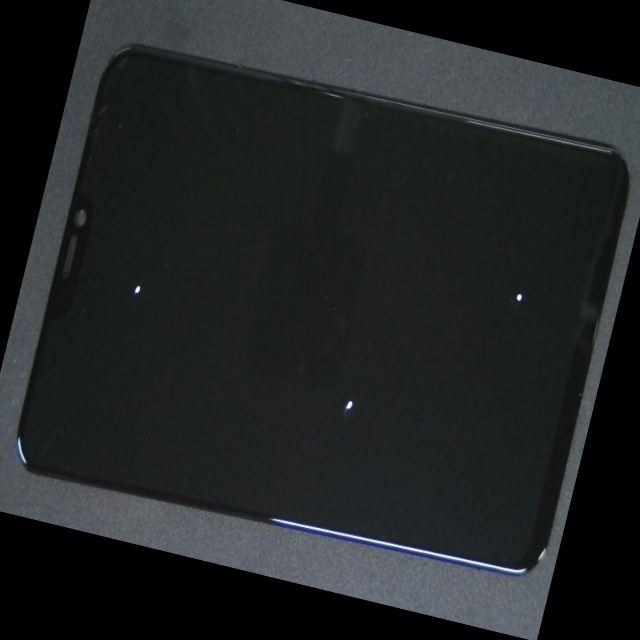stain: (148, 144, 557, 610), (263, 90, 640, 414), (50, 83, 227, 434)
